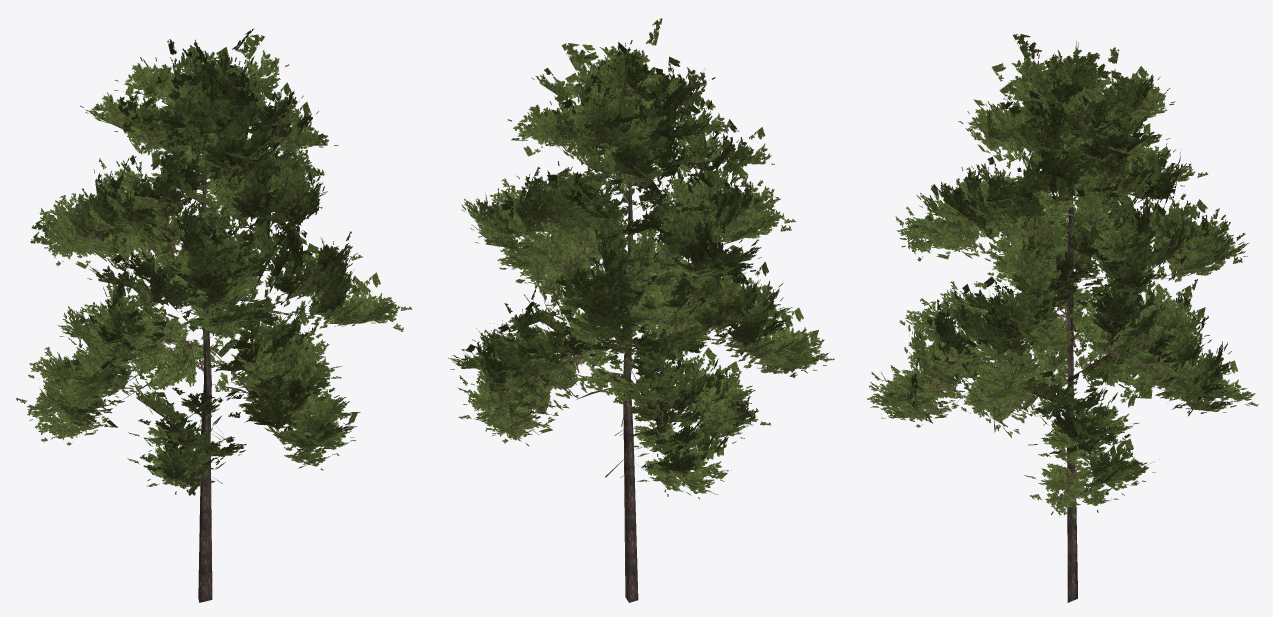
File: tree_pine.gltf
The picture shows the model from 3 angles, left to right: view 1: azimuth 30°, elevation 25°; view 2: azimuth 150°, elevation 25°; view 3: azimuth 270°, elevation 25°; orthographic projection.
Parts seen in each view (by area): view 1: tree_pine; view 2: tree_pine; view 3: tree_pine.
Part boxes in pixels (x1=…): tree_pine: x1=16, y1=28, x2=412, y2=602; tree_pine: x1=448, y1=18, x2=834, y2=602; tree_pine: x1=866, y1=34, x2=1258, y2=602.
Bounding box in the file's own units: 8.98 × 14 × 8.79.
Materials: 2 (2 with a texture image).
